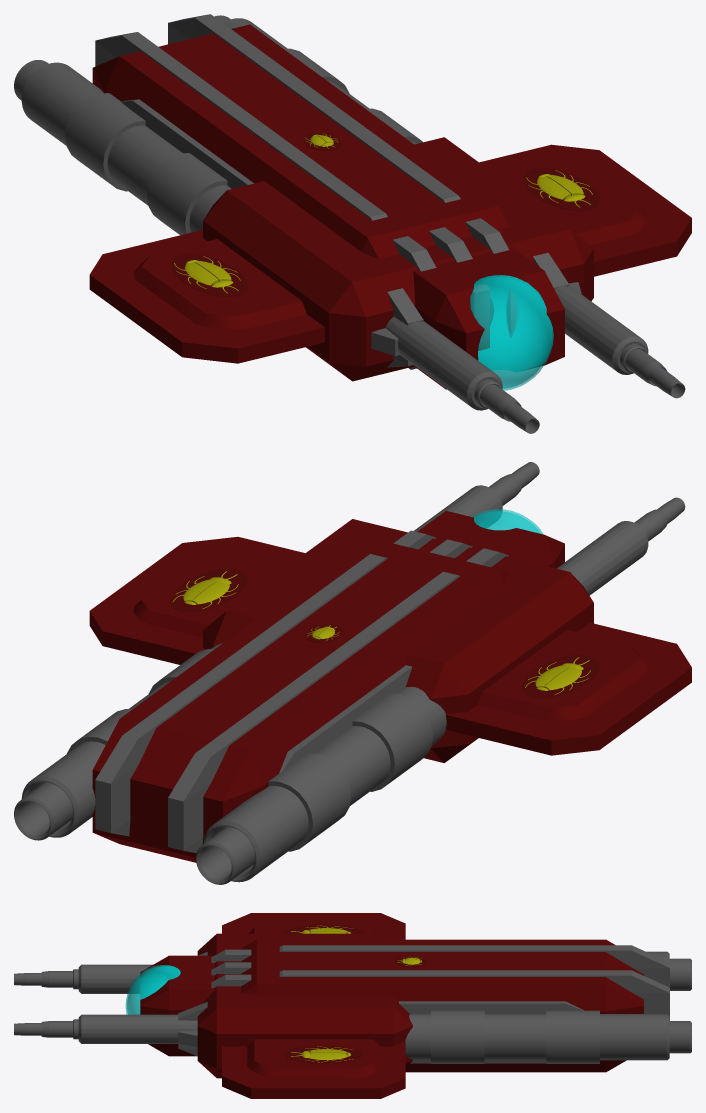
The model's file is Scarab2.fbx.
3 views of the same model, one above another, from view 1: azimuth 30°, elevation 25°; view 2: azimuth 150°, elevation 25°; view 3: azimuth 270°, elevation 25° (orthographic). The views are drawn at different scales.
Visible parts, largest first — view 1: group7; view 2: group7; view 3: group7.
Part boxes in pixels (bbox=[...]): group7: bbox=[14, 14, 691, 433]; group7: bbox=[14, 462, 691, 884]; group7: bbox=[14, 913, 691, 1098].
Bounding box in the file's own units: 90.88 × 21.92 × 149.
